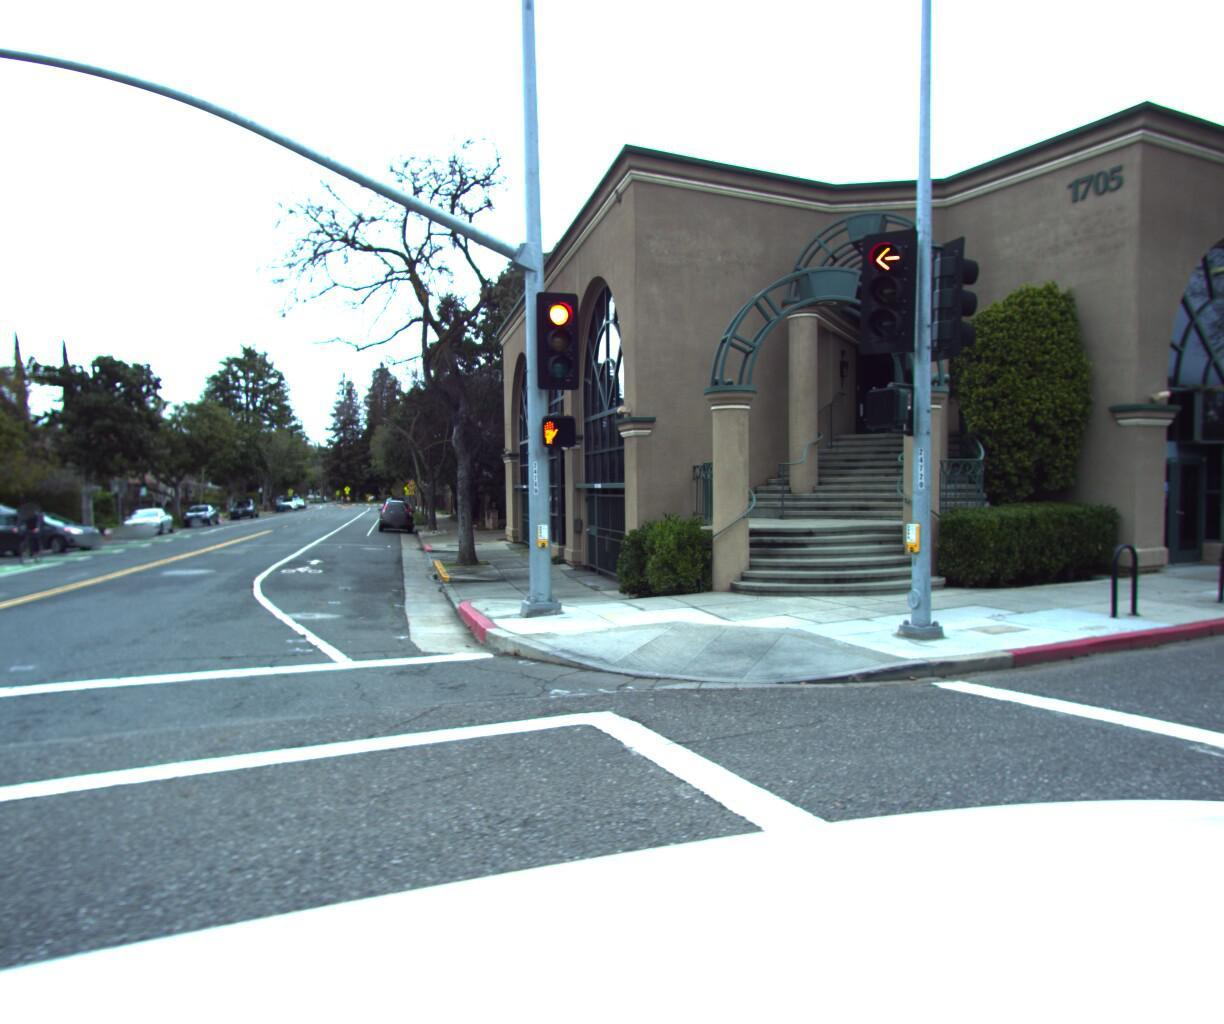bicycle: (0, 500, 60, 567)
car: (0, 513, 116, 558), (118, 504, 183, 539), (377, 497, 417, 533), (0, 500, 41, 535), (182, 503, 226, 527), (230, 501, 262, 520)
